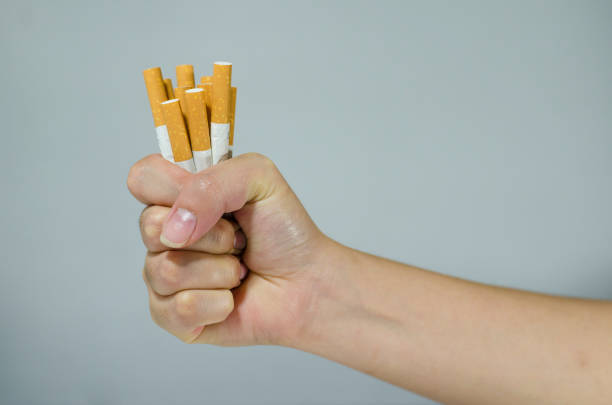cigarette: (141, 66, 177, 164), (160, 97, 197, 173), (210, 59, 233, 164), (185, 87, 212, 172), (177, 62, 197, 103), (229, 85, 238, 149), (200, 73, 212, 105), (162, 77, 173, 100)
